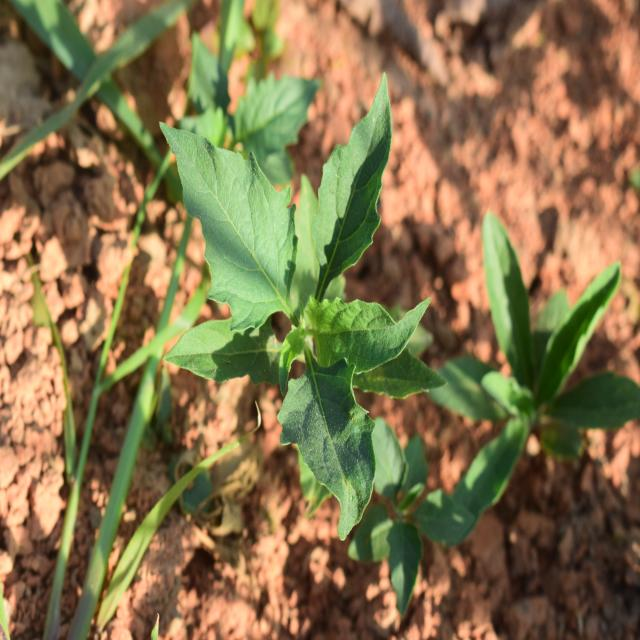Black_nightshade: (184, 121, 436, 518)
